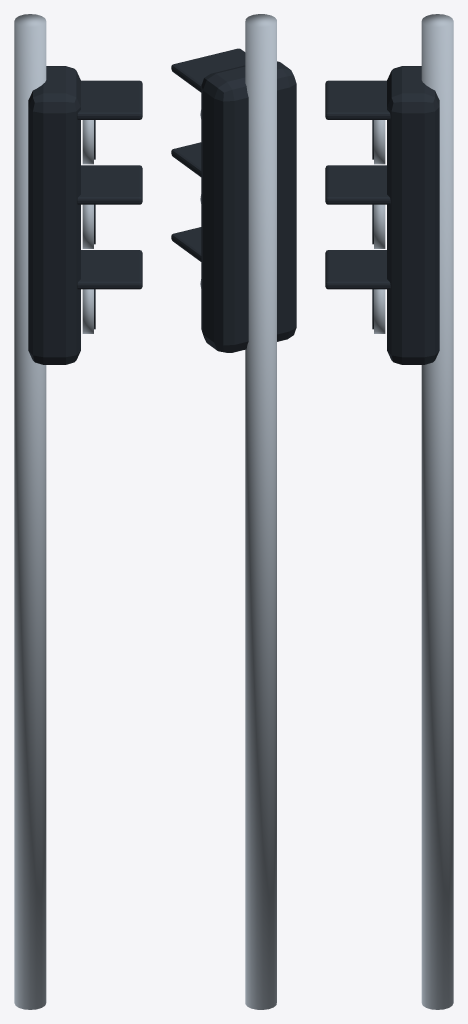
File: traffic-signal.glb
3 renders of one model, left to right at view 1: azimuth 90°, elevation 25°; view 2: azimuth 210°, elevation 25°; view 3: azimuth 270°, elevation 25°, orthographic.
Visible parts, largest first — view 1: Signal mast, Traffic signal head; view 2: Signal mast, Traffic signal head; view 3: Signal mast, Traffic signal head.
Part boxes in pixels (x1,y1,x2,y2): Signal mast: (14,14,93,1009); Traffic signal head: (28,66,142,364); Signal mast: (200,14,276,1009); Traffic signal head: (171,48,296,352); Signal mast: (374,14,453,1009); Traffic signal head: (325,66,439,364).
Size of the model in its own units: 0.5 by 5.8 by 0.685.
